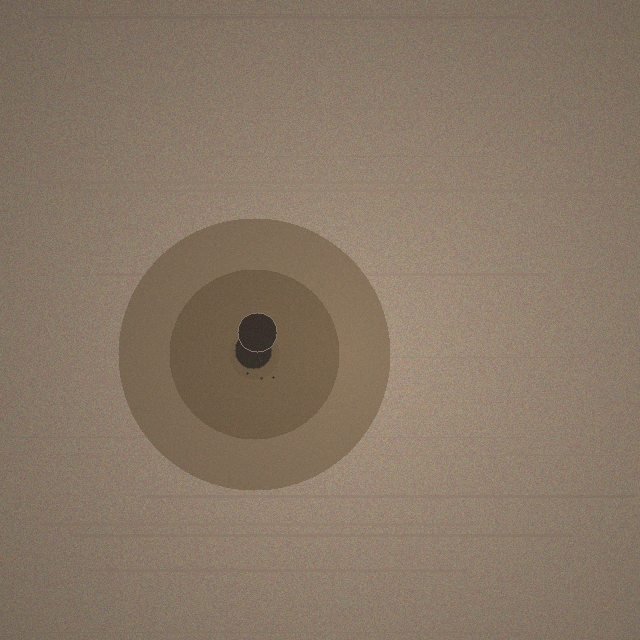shrinkage: (118, 218, 390, 490)
